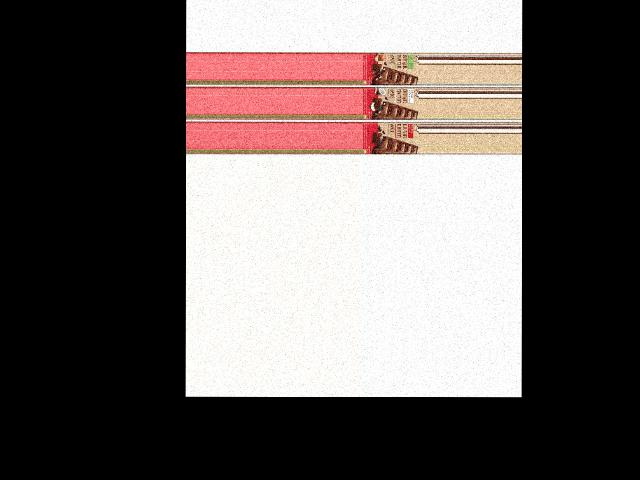chocolate: (362, 51, 418, 84)
